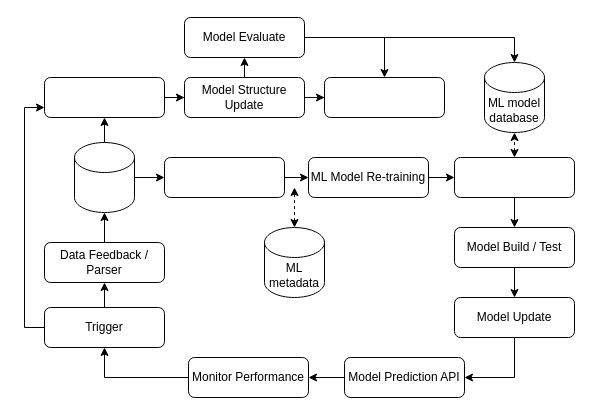
Image size: 592x415. Some labels were removed from this diagram. The centre of each missing label's shape, as x and y in pixels:
"Data Analysis" goes at [104,97].
"Data Engineering" goes at [224,177].
"Database" goes at [104,177].
"Model code CI/CD" goes at [384,97].
"Model Evaluation" goes at [514,177].
